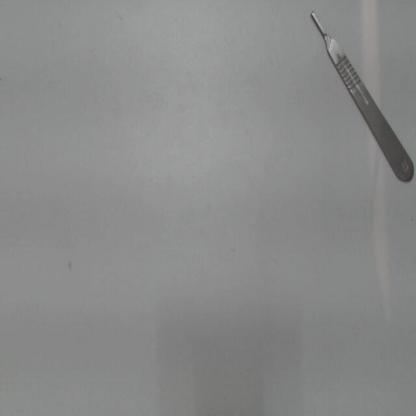No.3 BP Handle: (298, 2, 415, 196)
